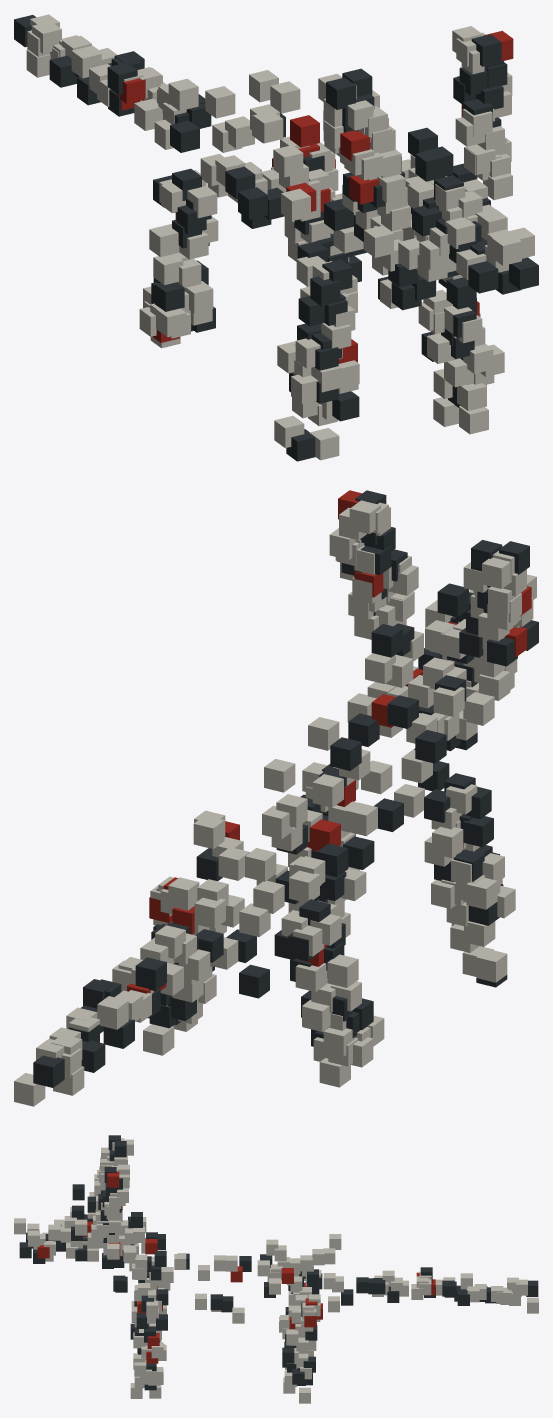
The picture shows the model from 3 angles, top to bottom: view 1: azimuth 30°, elevation 25°; view 2: azimuth 150°, elevation 25°; view 3: azimuth 270°, elevation 25°; orthographic projection. The views are drawn at different scales.
Visible parts, largest first — view 1: nanite-rat-painted; view 2: nanite-rat-painted; view 3: nanite-rat-painted.
Part boxes in pixels (<box>): nanite-rat-painted: <box>14,14,538,461</box>; nanite-rat-painted: <box>14,490,538,1106</box>; nanite-rat-painted: <box>14,1135,538,1403</box>.
Bounding box in the file's own units: 1.07 × 2 × 4.21.
